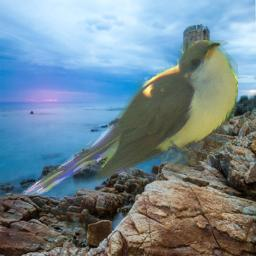Cuckoo: (20, 40, 238, 195)
